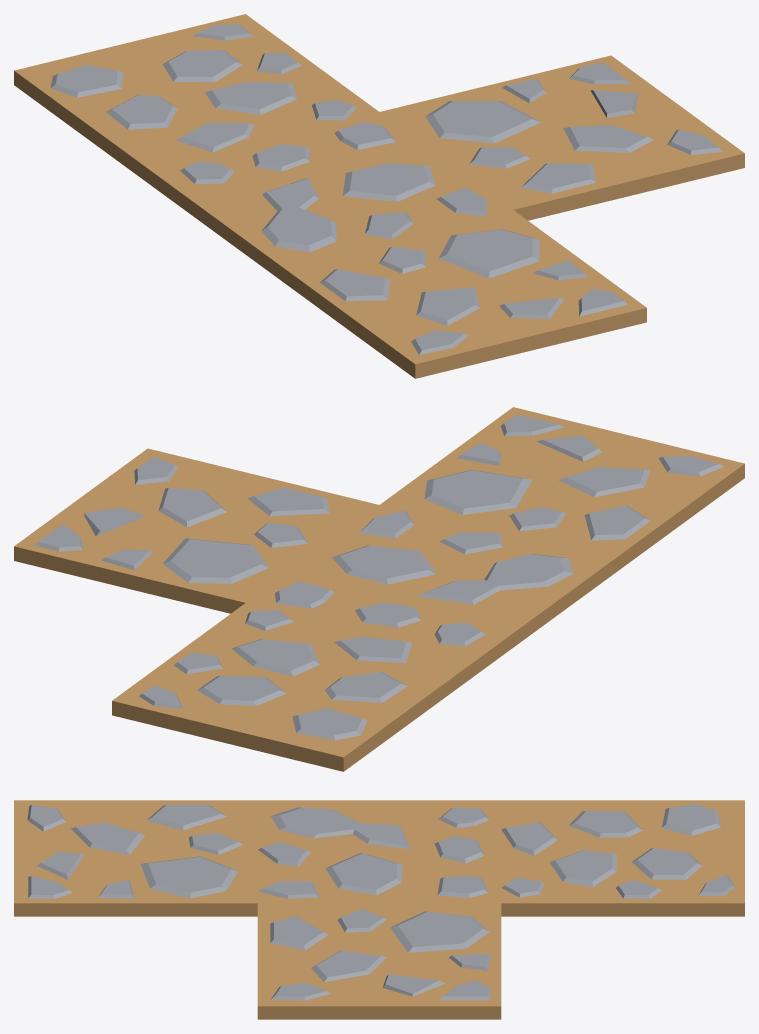
The model's file is RoadT.fbx.
3 renders of one model, top to bottom at view 1: azimuth 30°, elevation 25°; view 2: azimuth 150°, elevation 25°; view 3: azimuth 270°, elevation 25°, orthographic. The views are drawn at different scales.
Parts seen in each view (by area): view 1: Road-T; view 2: Road-T; view 3: Road-T.
Part boxes in pixels (<box>): Road-T: <box>14,14,744,378</box>; Road-T: <box>14,407,744,771</box>; Road-T: <box>14,800,744,1019</box>.
Size of the model in its own units: 827 by 29.83 by 1240.
